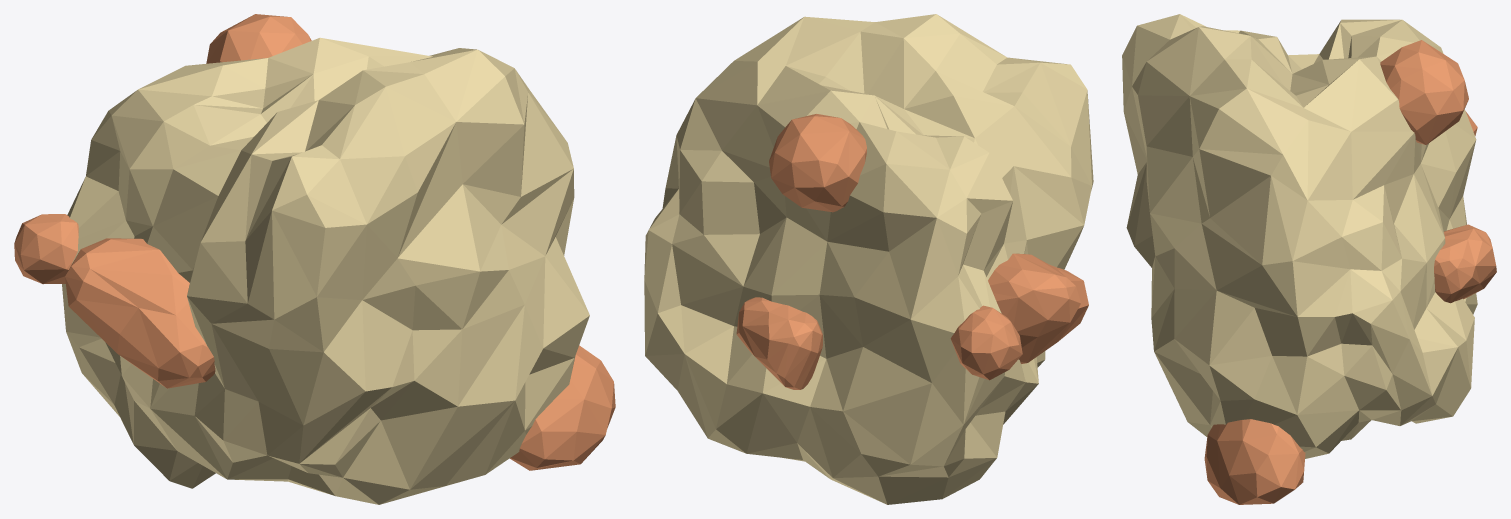
The model's file is StoneOre (16).fbx.
3 renders of one model, left to right at view 1: azimuth 30°, elevation 25°; view 2: azimuth 150°, elevation 25°; view 3: azimuth 270°, elevation 25°, orthographic. The views are drawn at different scales.
Parts seen in each view (by area): view 1: Asteroid303; view 2: Asteroid303; view 3: Asteroid303.
Part boxes in pixels (bbox=[...]): Asteroid303: bbox=[14, 14, 615, 504]; Asteroid303: bbox=[644, 14, 1093, 504]; Asteroid303: bbox=[1122, 14, 1496, 504].
Bounding box in the file's own units: 496 × 421 × 369.
